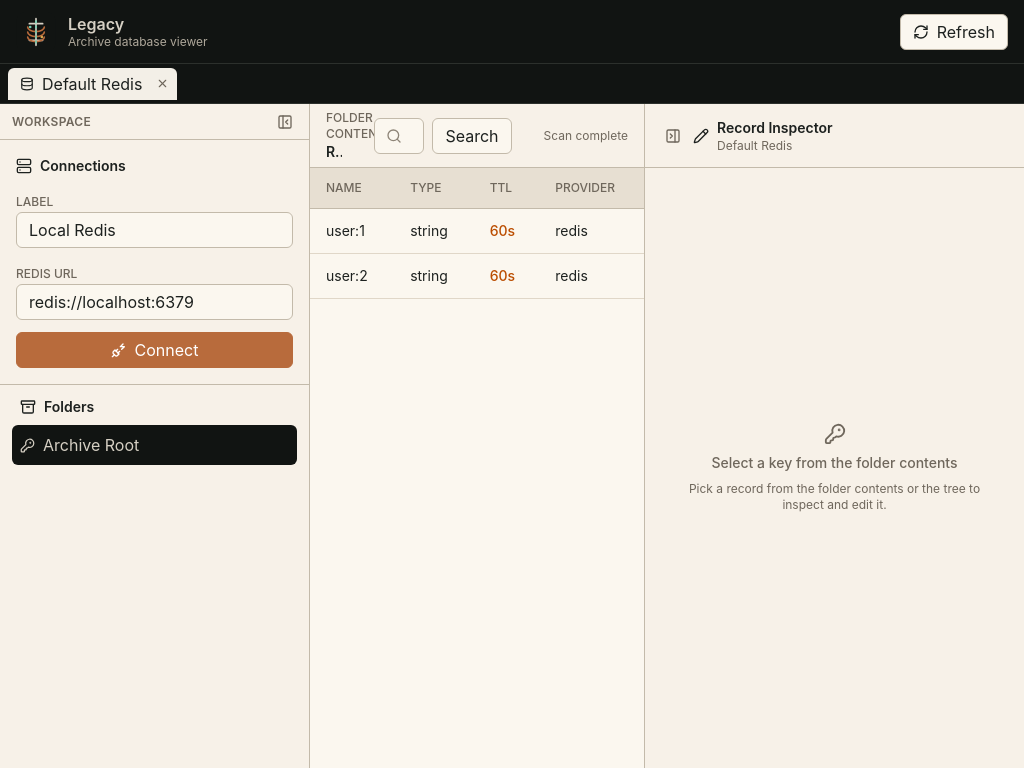
Test: DatabaseWorkbench › requests a larger preview on demand and resets it on selection change
The width and height of the screenshot is (1024, 768).
Click the button with aria-label "inspect user:1" at (352, 231), box left=310, top=209, right=394, bottom=253
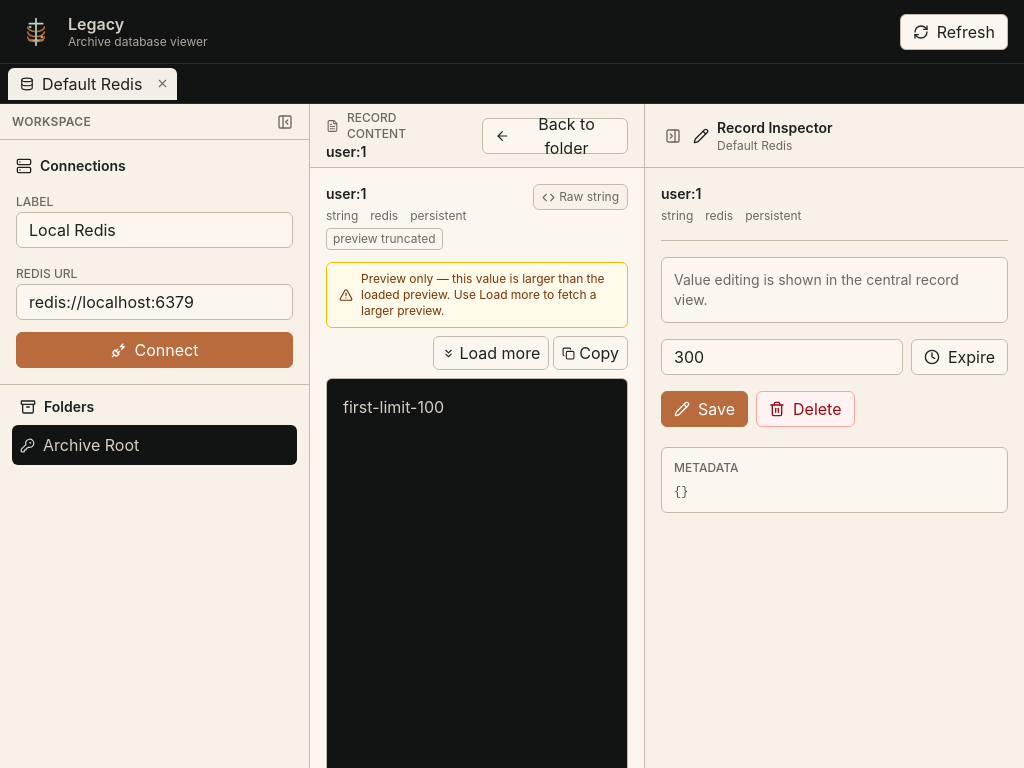
Result: the text box showing "first-limit-100" is shown at left=326, top=378, right=628, bottom=767
Click the button "Load more" at (491, 353), box left=434, top=336, right=549, bottom=370
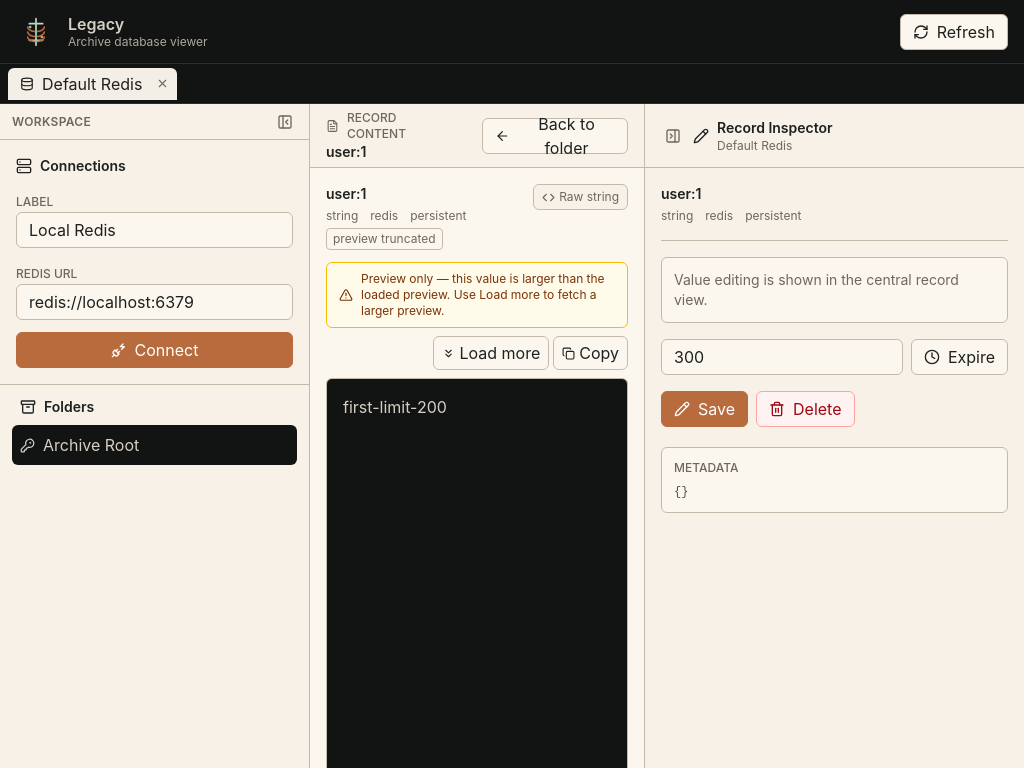
Result: the text box showing "first-limit-200" is shown at left=326, top=378, right=628, bottom=767
Click the button "Back to folder" at (555, 136), box left=482, top=118, right=628, bottom=154
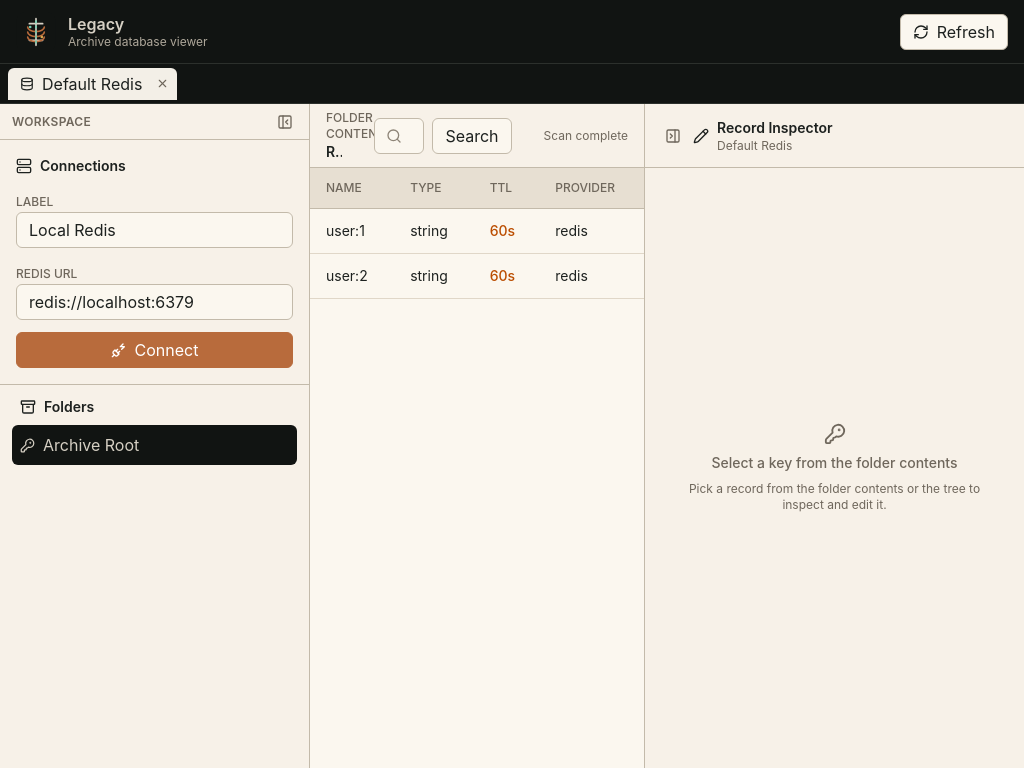
Click the button with aria-label "inspect user:2" at (352, 276), box left=310, top=254, right=394, bottom=298
(page scrolled)
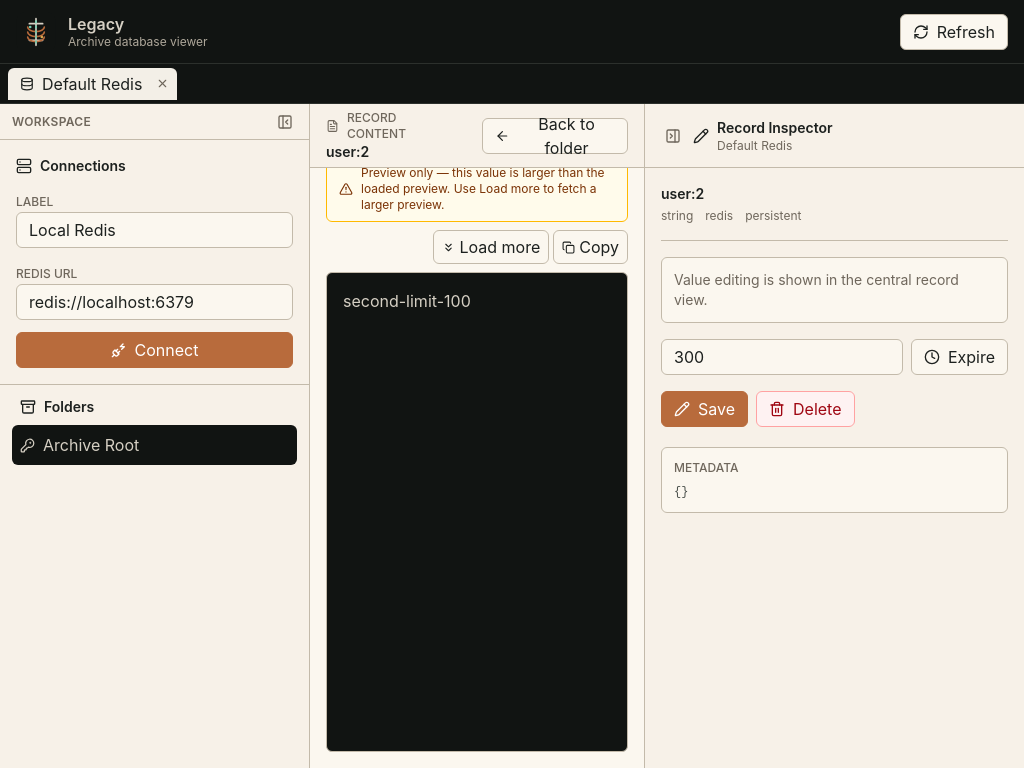
Result: the text box showing "second-limit-100" is shown at left=326, top=272, right=628, bottom=752
